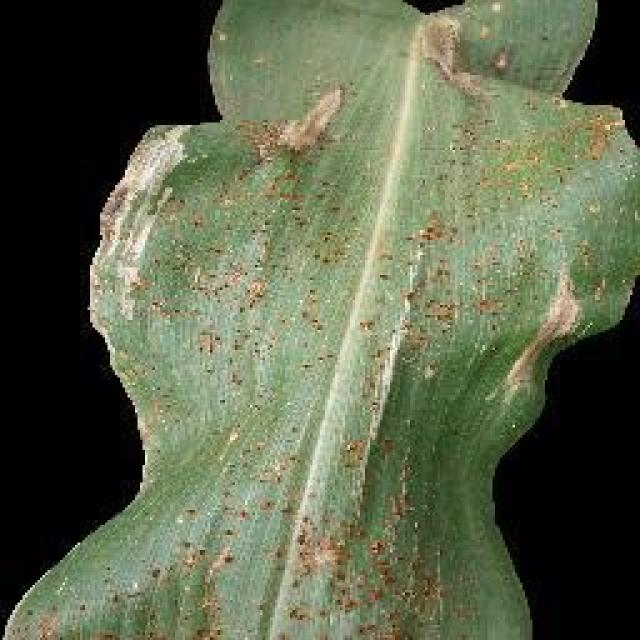Corn Common Rust: (257, 155, 478, 640)
